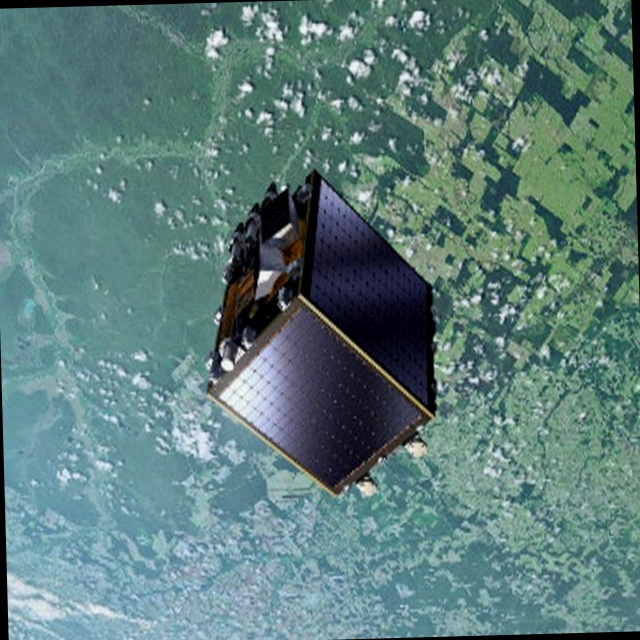medium_debris: (204, 151, 450, 522)
